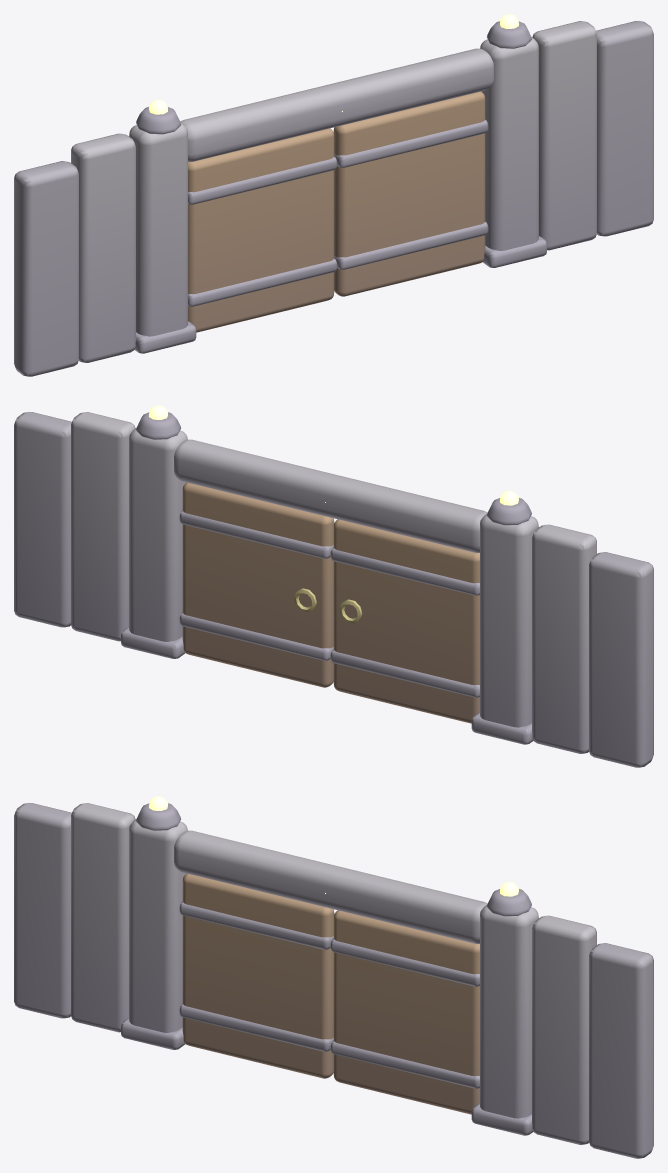
The model's file is gate2.glb.
3 renders of one model, top to bottom at view 1: azimuth 30°, elevation 25°; view 2: azimuth 150°, elevation 25°; view 3: azimuth 330°, elevation 25°, orthographic.
Parts seen in each view (by area): view 1: Body; view 2: Body; view 3: Body.
Part boxes in pixels (x1=…): Body: x1=14, y1=21, x2=653, y2=376; Body: x1=14, y1=412, x2=653, y2=767; Body: x1=14, y1=803, x2=653, y2=1158.
Size of the model in its own units: 38.9 by 14.2 by 2.31.
